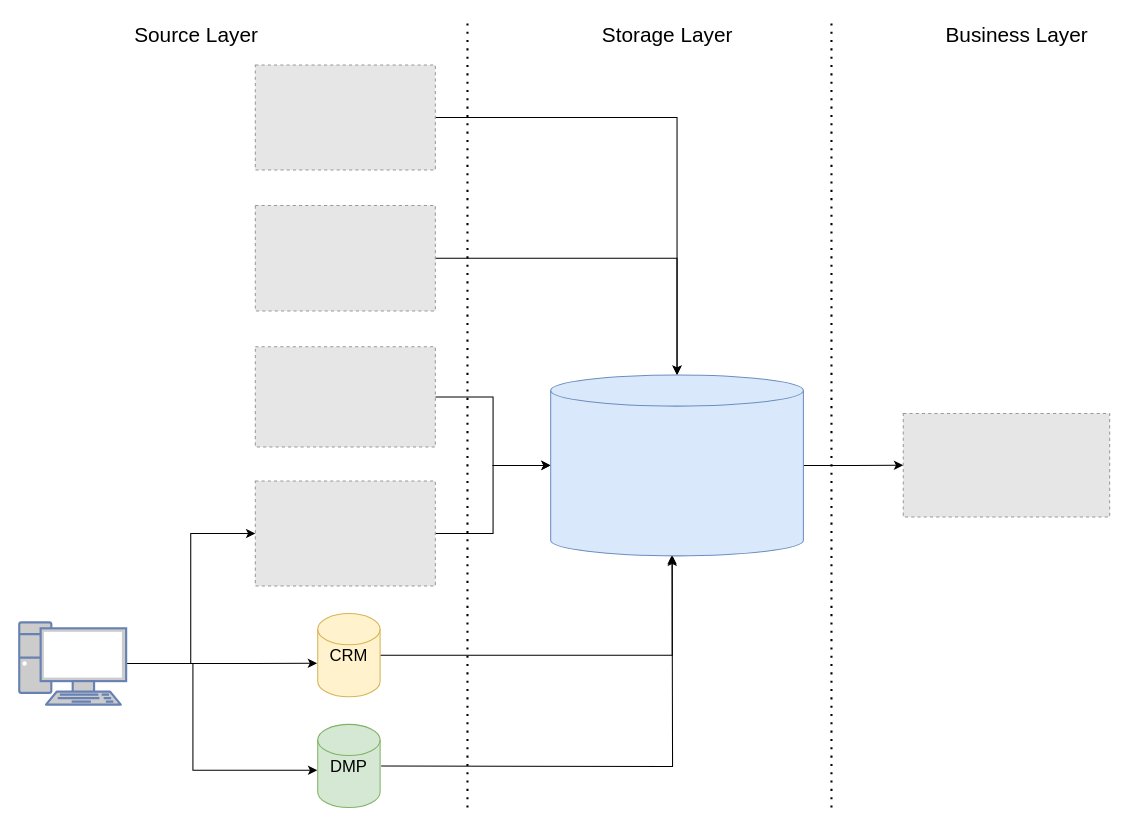
Some shapes in this 1127 by 827 pixel diagram are drawn without their labels. Grey dashed boxes stand in for pictures. The centre of each missing label's shape, as x and y in pixels:
"BigQuery" belongs at [676,465].
"Website" belongs at [72,663].
